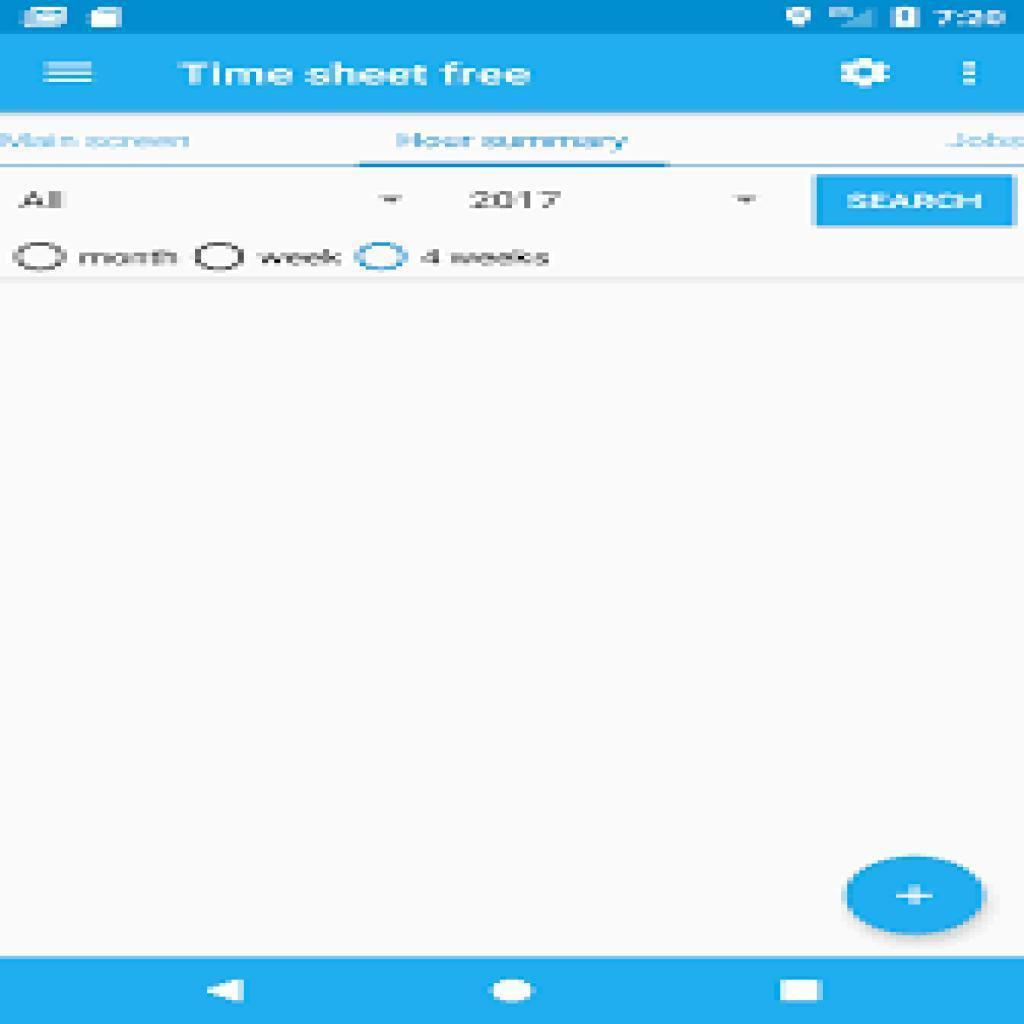button: (810, 172, 1018, 230)
dropdown: (15, 186, 406, 210), (468, 187, 762, 213)
icon: (839, 53, 893, 92), (774, 973, 829, 1007), (41, 56, 97, 89), (489, 973, 534, 1007), (204, 974, 244, 1009), (894, 879, 936, 909), (956, 56, 984, 94)
label: (178, 55, 536, 87), (393, 130, 631, 154), (0, 131, 195, 149), (419, 246, 555, 270), (252, 247, 344, 270), (78, 249, 177, 266)
radio: (353, 239, 409, 273), (10, 240, 67, 272), (195, 240, 245, 273)
